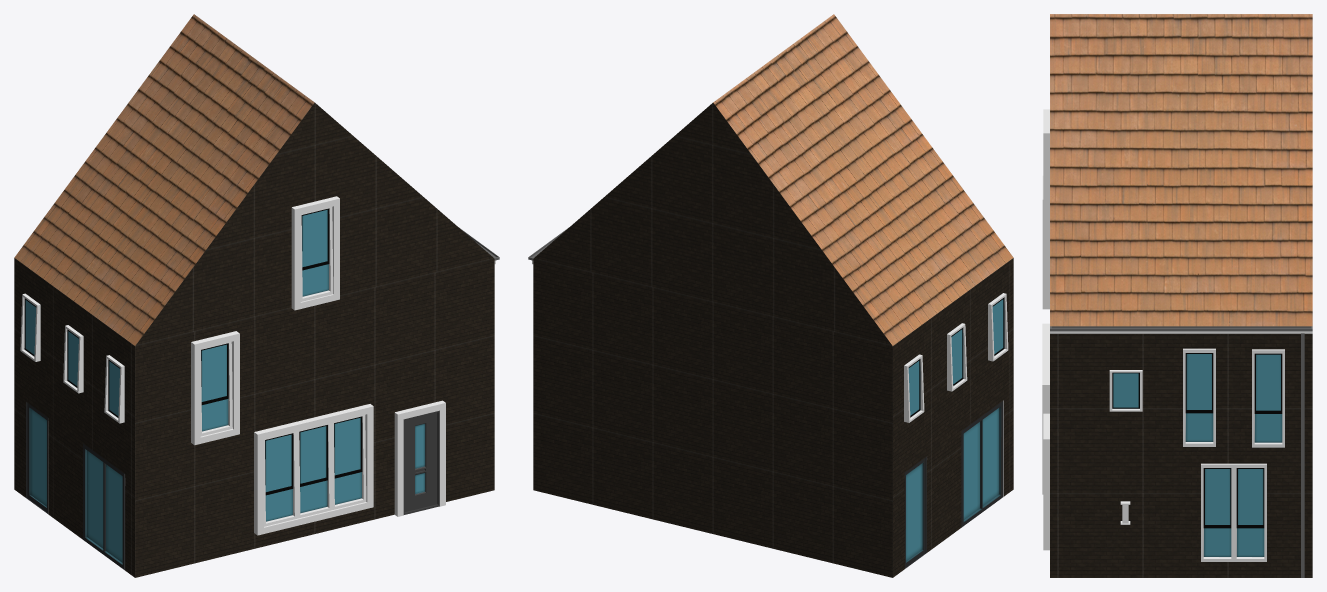
File: Woning_39723_B3Z2.fbx
The picture shows the model from 3 angles, left to right: view 1: azimuth 30°, elevation 25°; view 2: azimuth 150°, elevation 25°; view 3: azimuth 270°, elevation 25°; orthographic projection. The views are drawn at different scales.
Visible parts, largest first — view 1: Woning_39723_B3Z2; view 2: Woning_39723_B3Z2; view 3: Woning_39723_B3Z2.
Part boxes in pixels (x1,y1,x2,y2): Woning_39723_B3Z2: [14, 14, 499, 577]; Woning_39723_B3Z2: [528, 14, 1013, 577]; Woning_39723_B3Z2: [1042, 14, 1312, 577].
Bounding box in the file's own units: 9.71 × 10.7 × 5.59.
1 material, 1 textured.
